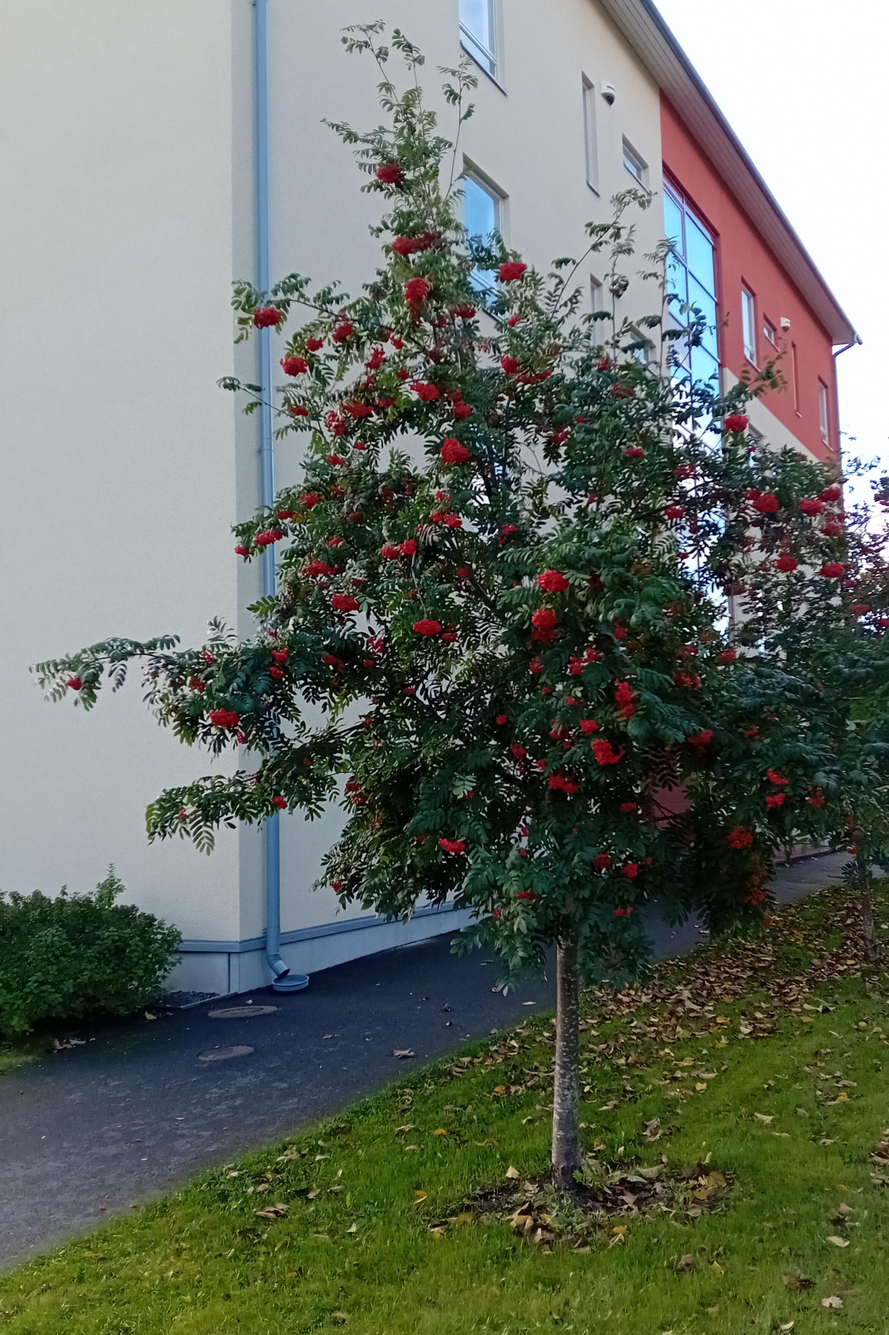Rowan: (29, 15, 887, 1202)
